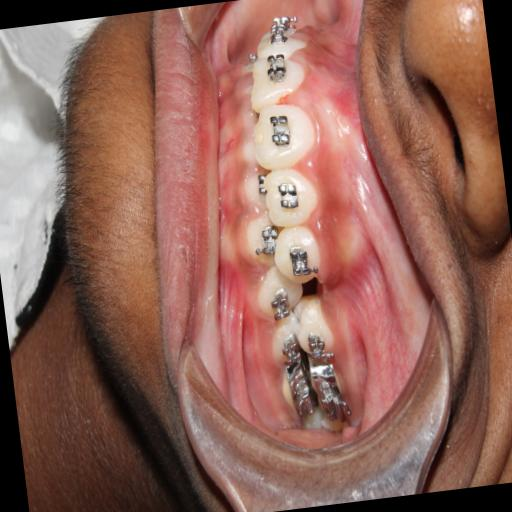correct_brace: (260, 106, 302, 154), (270, 176, 310, 216), (280, 238, 318, 280)
incorrect_brace: (260, 162, 318, 228)
